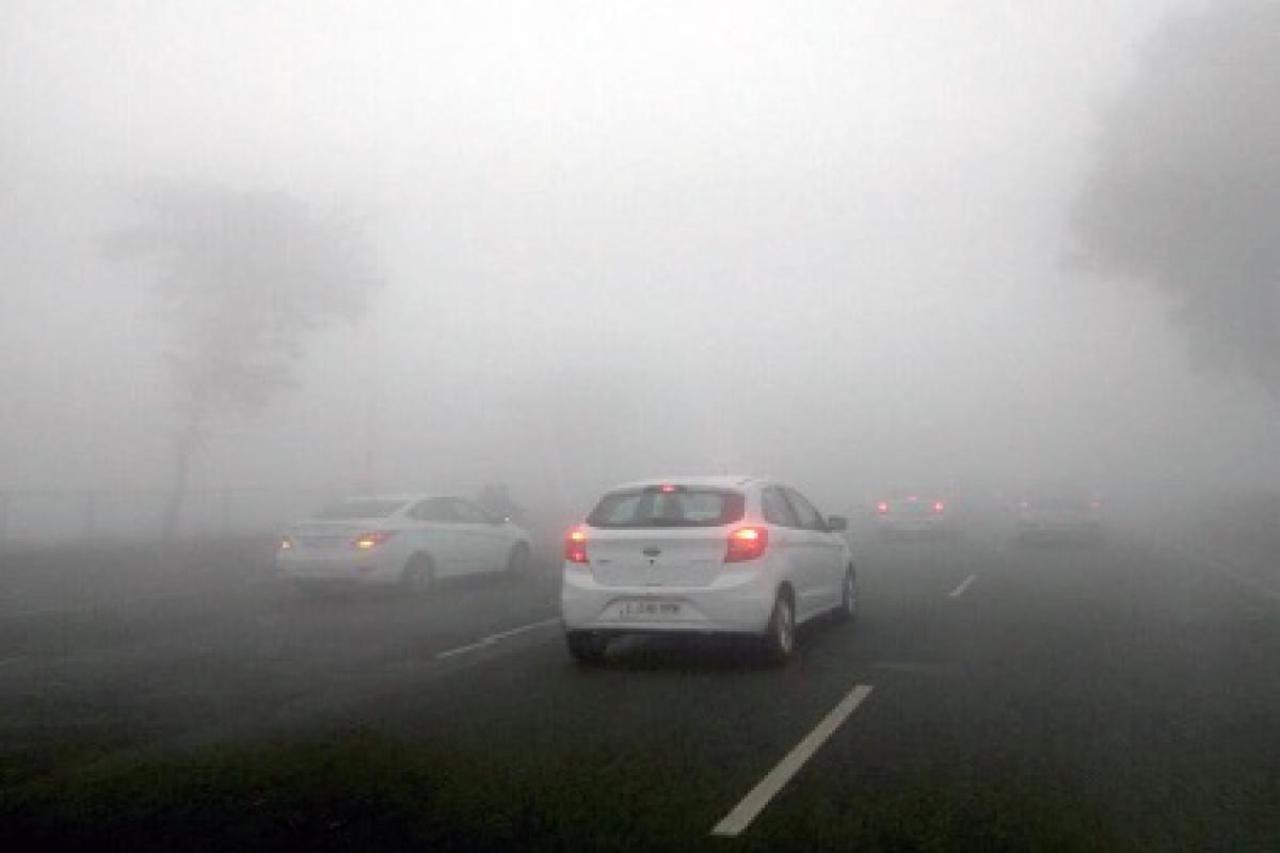car: (553, 471, 855, 663), (271, 493, 539, 590), (1018, 470, 1103, 546), (874, 475, 956, 538)
